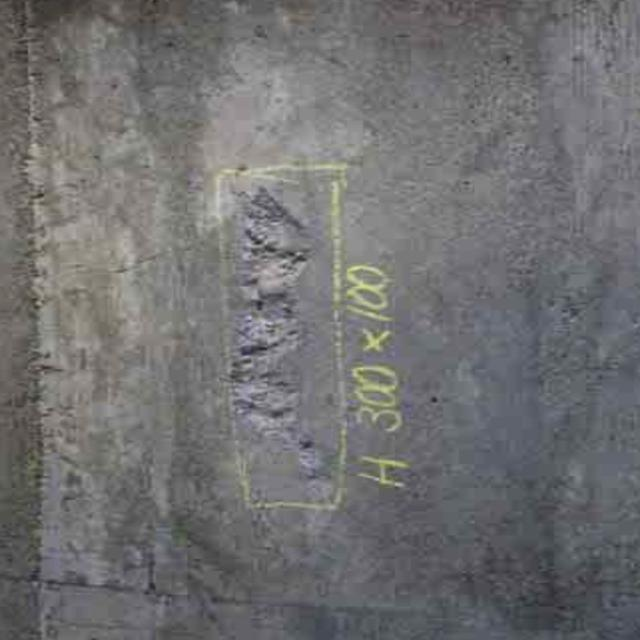spalling: (216, 181, 324, 496)
